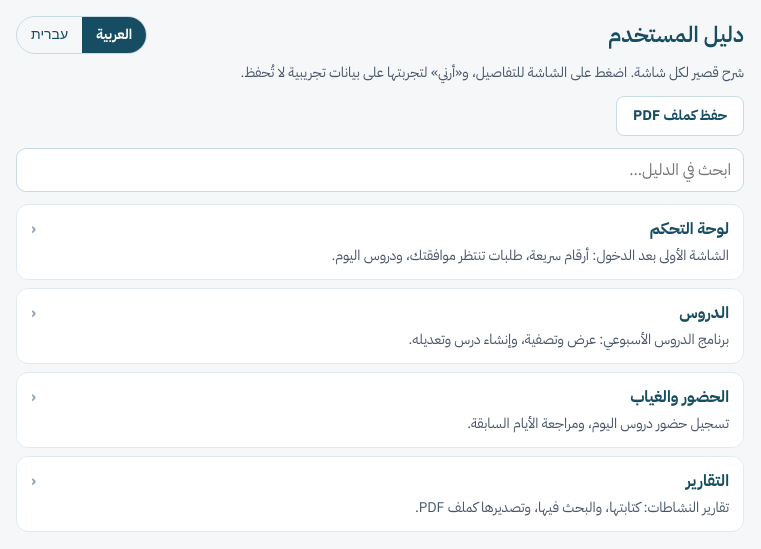
Test case: switches to Hebrew and remembers it
Check: the heading "دليل المستخدم" is shown, box left=608, top=21, right=744, bottom=49
Click the button "עברית" at (50, 35), box left=17, top=17, right=82, bottom=53
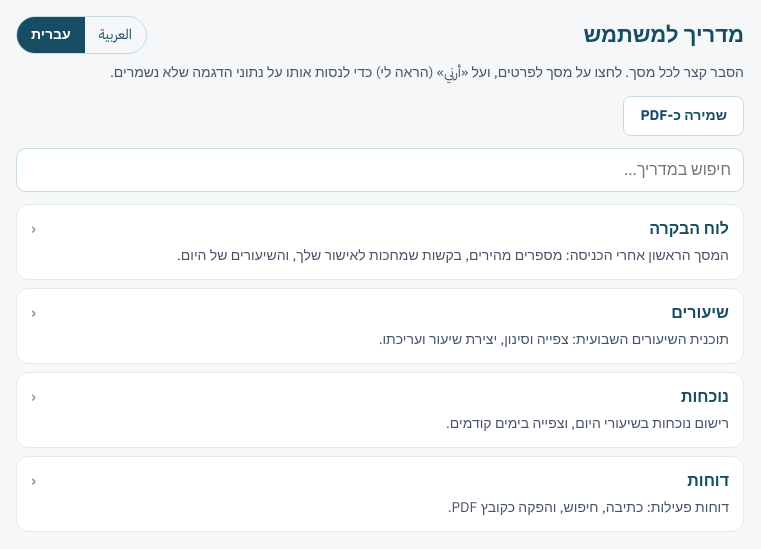
Check: the heading "מדריך למשתמש" is shown, box left=584, top=21, right=744, bottom=49
